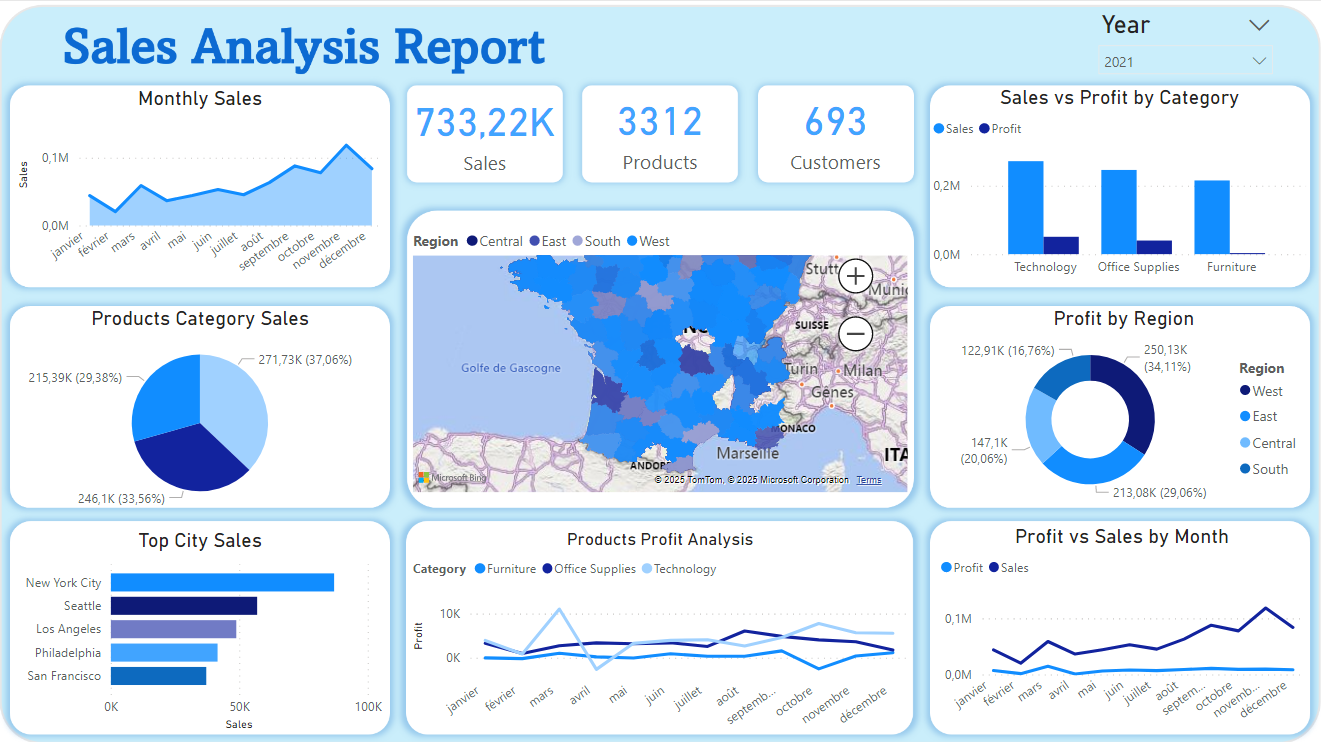

What the dashboard file says about the page in this screenshot:
{"tool":"powerbi","page":{"name":"Sales Report 2021","canvas":[1280,720],"ordinal":1},"visuals":[{"type":"stackedAreaChart","title":"Monthly Sales","fields":{"Category":["Orders.Order Date.Variation.Hiérarchie de dates.Mois"],"Y":["Sum(Orders.Sales)"]},"box":[13.6,83.9,362.9,193.8],"z":0},{"type":"pieChart","title":"Products Category Sales","fields":{"Category":["Orders.Category"],"Y":["Sum(Orders.Sales)"]},"box":[13.6,296.2,362.9,202.4],"z":1000},{"type":"filledMap","fields":{"Category":["Orders.Sales"],"Series":["Orders.Region"]},"box":[395.7,211.8,488.9,268.6],"z":2000},{"type":"lineChart","title":"Products Profit Analysis","fields":{"Y":["Sum(Orders.Profit)"],"Series":["Orders.Category"],"Category":["Orders.Order Date.Variation.Hiérarchie de dates.Mois"]},"box":[396.2,511,488.8,202.4],"z":3000},{"type":"card","fields":{"Values":["Sum(Orders.Sales)"]},"box":[396.2,75.3,149.4,101.2],"z":4000},{"type":"slicer","fields":{"Values":["Orders.Order Date.Variation.Hiérarchie de dates.Année"]},"box":[1054.1,3.7,188.9,72.8],"z":5000},{"type":"card","fields":{"Values":["Count(Orders.Customer ID)"]},"box":[734.4,75.3,150.6,100],"z":6000},{"type":"clusteredBarChart","title":"Top City Sales","fields":{"Category":["Orders.City"],"Y":["Sum(Orders.Sales)"]},"box":[13.6,511,362.9,201.2],"z":7000},{"type":"clusteredColumnChart","title":"Sales vs Profit by Category","fields":{"Category":["Orders.Category"],"Y":["Sum(Orders.Sales)","Sum(Orders.Profit)"]},"box":[898.6,82.7,371.5,193.8],"z":8000},{"type":"donutChart","title":"Profit by Region","fields":{"Y":["Sum(Orders.Sales)"],"Category":["Orders.Region"]},"box":[907.2,296.2,362.9,196.3],"z":9000},{"type":"lineChart","title":"Profit vs Sales by Month","fields":{"Category":["Orders.Order Date.Variation.Hiérarchie de dates.Mois"],"Y":["Sum(Orders.Profit)","Sum(Orders.Sales)"]},"box":[906,507.3,361.7,200],"z":10000},{"type":"card","fields":{"Values":["CountNonNull(Orders.Product ID)"]},"box":[559.2,75.3,161.7,100],"z":11000}]}

Visuals, with their boxes in screenshot pixels (x1, y1, x2, y2), scaled from the page's 1280x720 canvas onto the 1321x742 screenshot:
"Monthly Sales" stackedAreaChart: detection(14, 86, 389, 286)
"Products Category Sales" pieChart: detection(14, 305, 389, 514)
filledMap - Orders.Sales x Orders.Region: detection(408, 218, 913, 495)
"Products Profit Analysis" lineChart: detection(409, 527, 913, 735)
card - Sum(Orders.Sales): detection(409, 78, 563, 182)
slicer - Orders.Order Date.Variation.Hiérarchie de dates.Année: detection(1088, 4, 1283, 79)
card - Count(Orders.Customer ID): detection(758, 78, 913, 181)
"Top City Sales" clusteredBarChart: detection(14, 527, 389, 734)
"Sales vs Profit by Category" clusteredColumnChart: detection(927, 85, 1311, 285)
"Profit by Region" donutChart: detection(936, 305, 1311, 508)
"Profit vs Sales by Month" lineChart: detection(935, 523, 1308, 729)
card - CountNonNull(Orders.Product ID): detection(577, 78, 744, 181)
